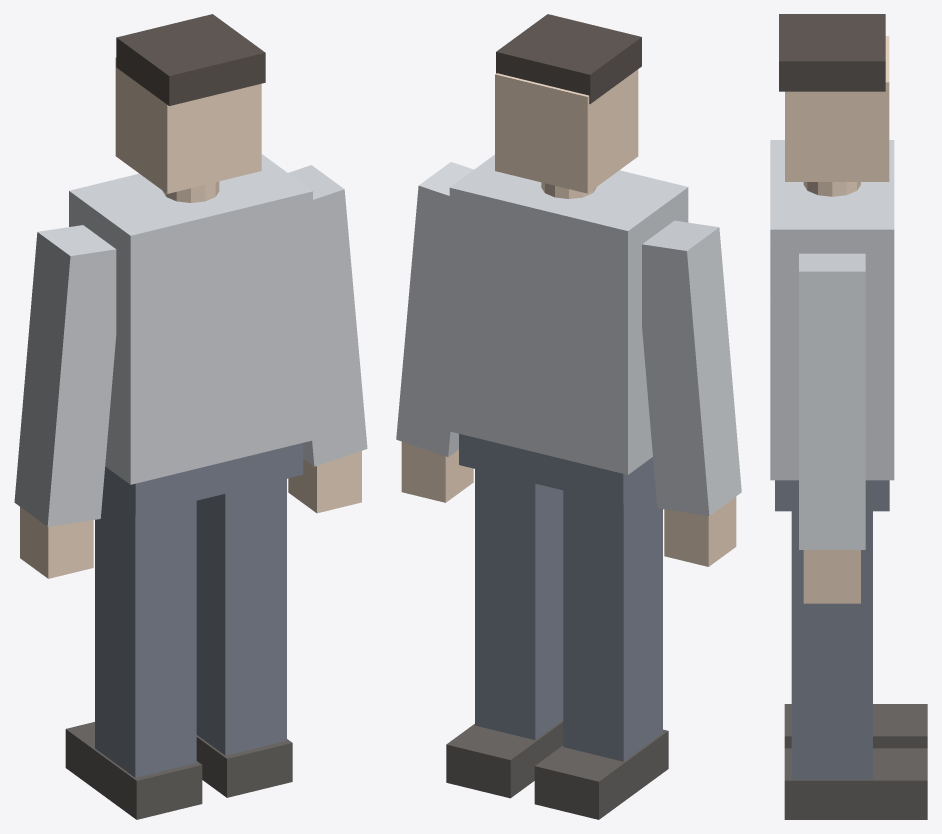
File: civ_01.glb
3 views of the same model, side by side, from view 1: azimuth 30°, elevation 25°; view 2: azimuth 150°, elevation 25°; view 3: azimuth 270°, elevation 25° (orthographic). The views are drawn at different scales.
Visible parts, largest first — view 1: civ_01_torso, civ_01_leg_L, civ_01_arm_L, civ_01_leg_R, civ_01_head, civ_01_arm_R, civ_01_hair, civ_01_pelvis, civ_01_shoe_L, civ_01_shoe_R, civ_01_hand_L, civ_01_hand_R (+1 smaller); view 2: civ_01_torso, civ_01_leg_L, civ_01_arm_L, civ_01_leg_R, civ_01_head, civ_01_arm_R, civ_01_hair, civ_01_shoe_L, civ_01_pelvis, civ_01_shoe_R, civ_01_hand_L, civ_01_hand_R; view 3: civ_01_torso, civ_01_arm_R, civ_01_leg_R, civ_01_head, civ_01_hair, civ_01_shoe_R, civ_01_hand_R, civ_01_shoe_L, civ_01_pelvis, civ_01_neck.
Part boxes in pixels (x1,y1,x2,y2): civ_01_torso: (69,154,312,484); civ_01_leg_L: (95,492,196,777); civ_01_arm_L: (14,225,116,526); civ_01_leg_R: (196,478,286,755); civ_01_head: (115,57,261,193); civ_01_arm_R: (288,165,367,466); civ_01_hair: (116,14,265,105); civ_01_pelvis: (103,443,303,515); civ_01_shoe_L: (65,722,202,819); civ_01_shoe_R: (196,735,292,797); civ_01_hand_L: (20,507,93,578); civ_01_hand_R: (288,451,361,513); civ_01_torso: (449,154,688,474); civ_01_leg_L: (563,482,662,761); civ_01_arm_L: (642,220,741,515); civ_01_leg_R: (475,469,563,739); civ_01_head: (495,69,638,193); civ_01_arm_R: (396,162,473,456); civ_01_hair: (496,14,641,103); civ_01_shoe_L: (534,729,668,819); civ_01_pelvis: (459,434,654,504); civ_01_shoe_R: (446,720,563,798); civ_01_hand_L: (664,496,736,566); civ_01_hand_R: (401,441,473,502); civ_01_torso: (770,140,894,480); civ_01_arm_R: (799,253,865,549); civ_01_leg_R: (791,511,872,779); civ_01_head: (785,36,889,181); civ_01_hair: (779,14,885,91); civ_01_shoe_R: (784,748,927,819); civ_01_hand_R: (803,550,860,603); civ_01_shoe_L: (784,704,927,748); civ_01_pelvis: (775,480,889,511); civ_01_neck: (803,182,860,196).
Bounding box in the file's own units: 0.7718 × 1.7 × 0.3267.
